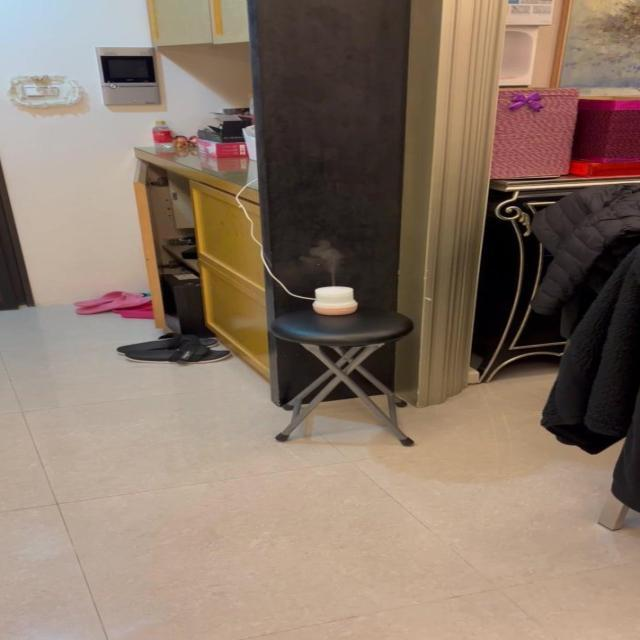fire: (292, 236, 355, 280)
